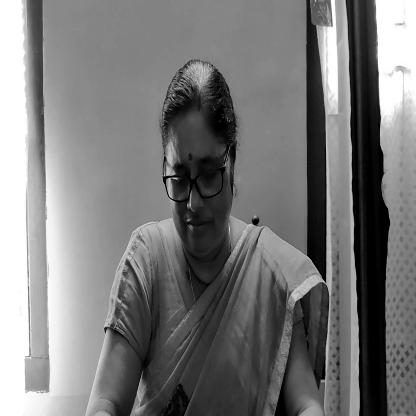Normal: (161, 54, 242, 248)
